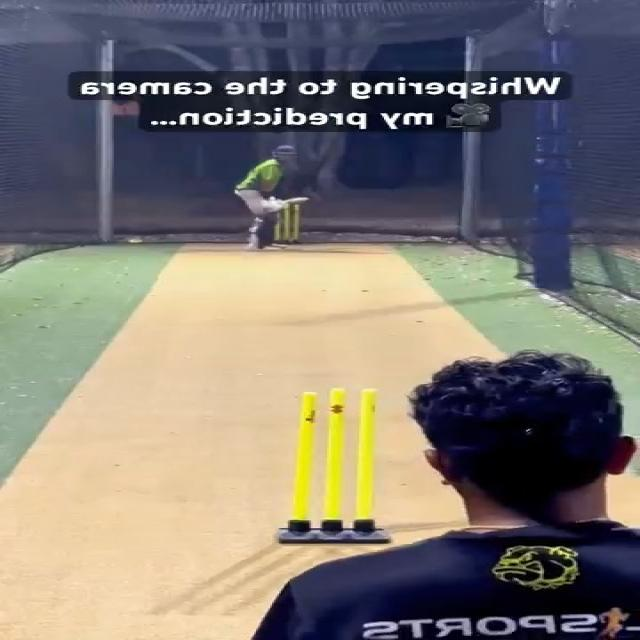stump: (276, 386, 394, 544), (272, 202, 302, 245)
